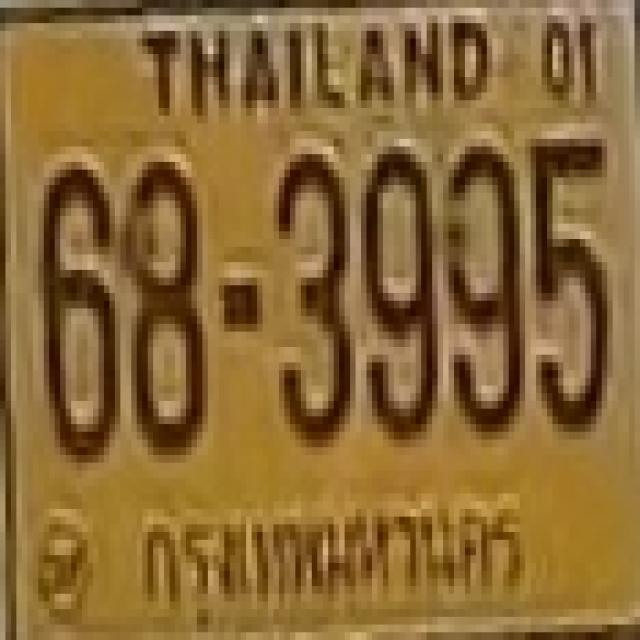0: (443, 139, 520, 432)
3: (274, 146, 350, 440)
5: (525, 135, 607, 428)
6: (33, 162, 115, 455)
8: (120, 154, 202, 447)
9: (358, 142, 435, 436), (443, 139, 520, 432)
BKK: (128, 486, 539, 614)
